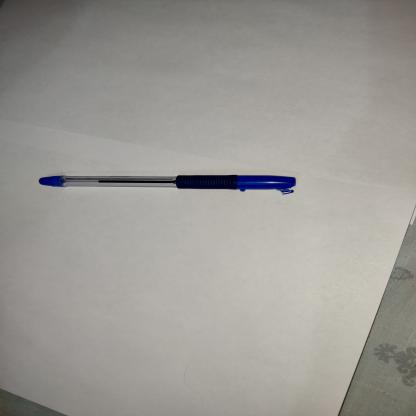pen: (36, 167, 310, 217)
